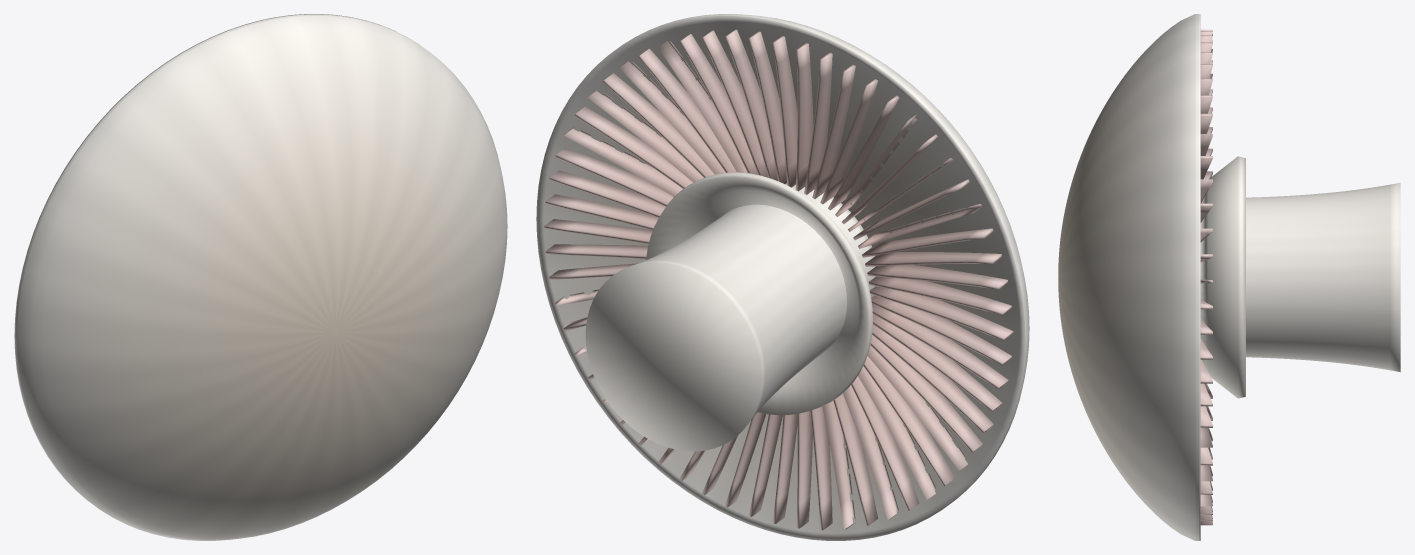
The model's file is agaricus-bisporus.glb.
The picture shows the model from 3 angles, left to right: view 1: azimuth 30°, elevation 25°; view 2: azimuth 150°, elevation 25°; view 3: azimuth 270°, elevation 25°; orthographic projection. The views are drawn at different scales.
Visible parts, largest first — view 1: pileus_cap; view 2: lamellae_gills, pileus_cap, stipe_stem, annulus_ring; view 3: pileus_cap, stipe_stem, annulus_ring, lamellae_gills.
Part boxes in pixels (box(x1,y1,x2,y2)): pileus_cap: box(14, 14, 507, 540); lamellae_gills: box(544, 29, 1013, 530); pileus_cap: box(536, 14, 1029, 540); stipe_stem: box(585, 183, 875, 451); annulus_ring: box(646, 172, 873, 415); pileus_cap: box(1058, 14, 1200, 540); stipe_stem: box(1246, 182, 1400, 372); annulus_ring: box(1200, 156, 1245, 398); lamellae_gills: box(1200, 29, 1212, 525).
Bounding box in the file's own units: 2 × 2 × 1.3.
